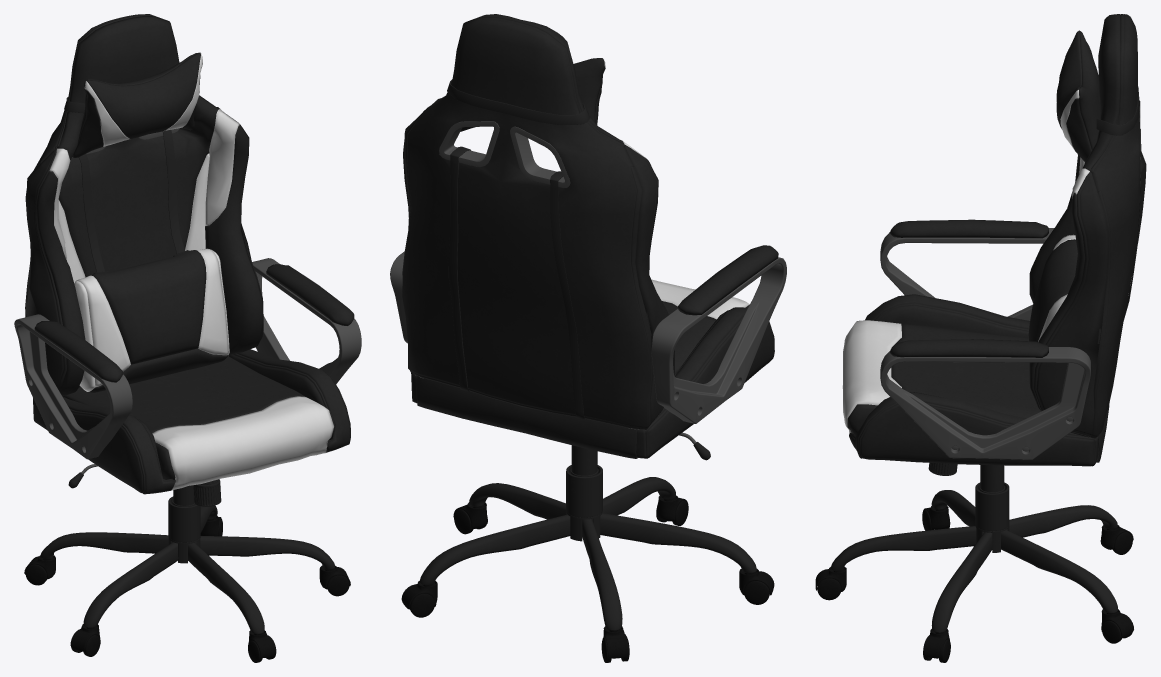
Rendered from office_chairs_gaming.glb.
The picture shows the model from 3 angles, left to right: view 1: azimuth 30°, elevation 25°; view 2: azimuth 150°, elevation 25°; view 3: azimuth 270°, elevation 25°; orthographic projection. The views are drawn at different scales.
Visible parts, largest first — view 1: Office_Chairs_Gaming_02_0_3; view 2: Office_Chairs_Gaming_02_0_3; view 3: Office_Chairs_Gaming_02_0_3.
Part boxes in pixels (x1,y1,x2,y2): Office_Chairs_Gaming_02_0_3: (14, 14, 361, 662); Office_Chairs_Gaming_02_0_3: (390, 14, 786, 662); Office_Chairs_Gaming_02_0_3: (815, 14, 1146, 662).
Bounding box in the file's own units: 0.6779 × 1.26 × 0.6626.
5 materials, 4 textured.
